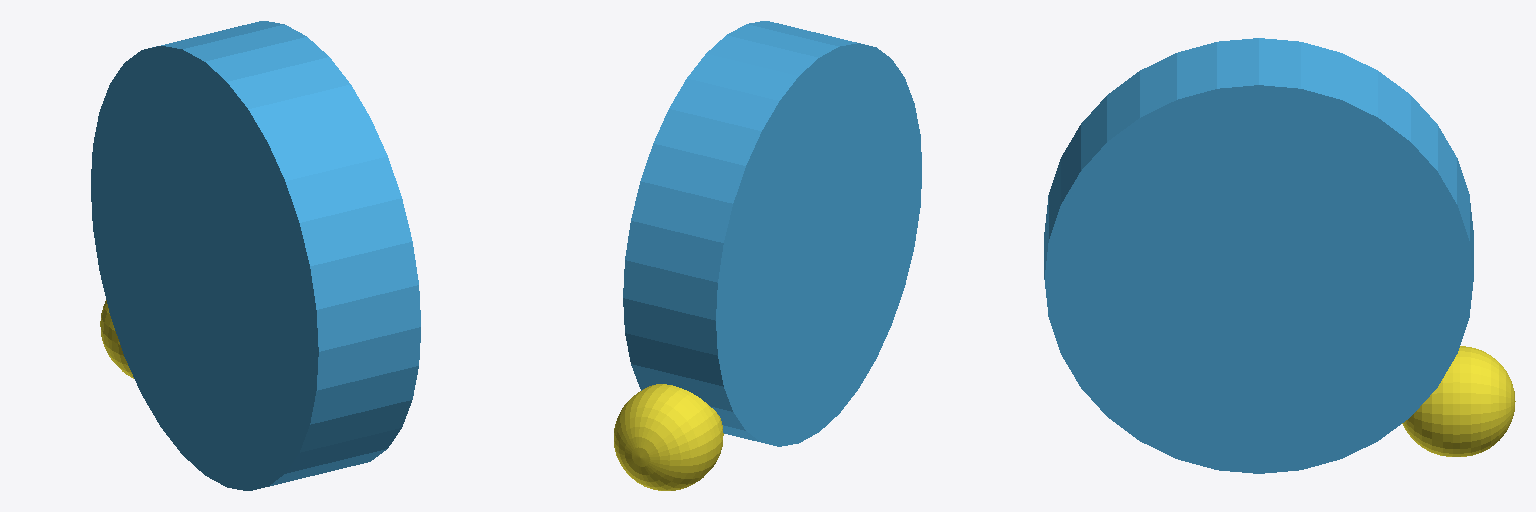
The robot description file, URDF, robot "DexterousHand":
<?xml version="1.0"?>
<robot name="DexterousHand">


    <link name="world"/>
    <joint name="world_to_palm" type="fixed">
        <parent link="world"/>
        <child link="palm"/>
        <origin xyz="0 0 0" rpy="0 0 0"/>
    </joint>
    <link name="palm">
        <inertial>
            <origin xyz="0 0 0.057" rpy="0 0 0"/>
            <mass value="0.30212892864"/>
            <inertia ixx="0.00049080844457568" ixy="0.0" ixz="0.0" iyy="0.00026746366246427523" iyz="0.0" izz="0.00026746366246427523"/>
        </inertial>
        <visual>
            <origin xyz="0 0 0.057" rpy="1.5708 0 1.5708"/>
            <geometry>
                <cylinder radius="0.057" length="0.0296"/>
            </geometry>
            <material name="default"/>
        </visual>
        <collision>
            <origin xyz="0 0 0.057" rpy="1.5708 0 1.5708"/>
            <geometry>
                <cylinder radius="0.057" length="0.0296"/>
            </geometry>
        </collision>
    </link>

    
    <joint name="thumb_joint1" type="revolute">
        <parent link="palm"/>
        <child link="thumb_base"/>
        <origin xyz="0.0029 0.0368 0.0157" rpy="-1.5708 -1.5708 0.0"/>
        <axis xyz="-1 0 0"/>
        <limit lower="-0.349" upper="2.094" effort="1.0" velocity="1.0"/>
    </joint>

    <link name="thumb_base"></link>

    <joint name="thumb_joint2" type="revolute">
        <parent link="thumb_base"/>
        <child link="thumb_proximal"/>
        <origin xyz="0.0 0.0 0.0" rpy="0.0 0.0 0.0"/>
        <axis xyz="0 0 1"/>
        <limit lower="-0.47" upper="2.443" effort="1.0" velocity="1.0"/>
    </joint>

    <link name="thumb_proximal">
        <inertial>
            <origin xyz="0 0 0.01565" rpy="0 0 0"/>
            <mass value="0.021538658803200002"/>
            <inertia ixx="2.9378910096388167e-06" ixy="0.0" ixz="0.0" 
            iyy="2.9378910096388167e-06" iyz="0.0" izz="2.358913912126464e-06"/>
        </inertial>
        <visual>
            <origin xyz="0 0 0.01565" rpy="0 0 0"/>
            <geometry>
                <cylinder radius="0.0148" length="0.0017000000000000001"/>
            </geometry>
            <material name="default"/>
        </visual>
        <visual>
            <origin xyz="0 0 0.0148" rpy="0 0 0"/>
            <geometry>
                <sphere radius="0.0148"/>
            </geometry>
            <material name="default"/>
        </visual>
        <visual>
            <origin xyz="0 0 0.0165" rpy="0 0 0"/>
            <geometry>
                <sphere radius="0.0148"/>
            </geometry>
            <material name="default"/>
        </visual>
        <collision>
            <origin xyz="0 0 0.01565" rpy="0 0 0"/>
            <geometry>
                <cylinder radius="0.0148" length="0.0017000000000000001"/>
            </geometry>
        </collision>
        <collision>
            <origin xyz="0 0 0.0148" rpy="0 0 0"/>
            <geometry>
                <sphere radius="0.0148"/>
            </geometry>
        </collision>
        <collision>
            <origin xyz="0 0 0.0165" rpy="0 0 0"/>
            <geometry>
                <sphere radius="0.0148"/>
            </geometry>
        </collision>
    </link>

    <joint name="thumb_joint3" type="revolute">
        <parent link="thumb_proximal"/>
        <child link="thumb_knuckle"/>
        <origin xyz="0.0 0.0 0.0" rpy="0.0 0.0 0.0"/>
        <axis xyz="1 0 0"/>
        <limit lower="0.0" upper="0.0" effort="1.0" velocity="1.0"/>
    </joint>

    <link name="thumb_knuckle"></link>

    <joint name="thumb_joint4" type="revolute">
        <parent link="thumb_knuckle"/>
        <child link="thumb_middle"/>
        <origin xyz="0 0 0" rpy="0 0 0"/> 
        <axis xyz="0 1 0"/>
        <limit lower="0.0" upper="0.0" effort="1.0" velocity="1.0"/>
    </joint>

    <link name="thumb_middle">
    </link>

    <joint name="thumb_joint5" type="revolute">
        <parent link="thumb_middle"/>
        <child link="thumb_distal"/>
        <origin xyz="0 0 0" rpy="0 0 0"/> 
        <axis xyz="0 1 0"/>
        <limit lower="0.0" upper="0.0" effort="1.0" velocity="1.0"/>
    </joint>

    <link name="thumb_distal">
    </link>

    
    <joint name="index_joint1" type="revolute">
        <parent link="palm"/>
        <child link="index_proximal"/>
        <origin xyz="0.0 0.0 0.0" rpy="0.0 0.0 0.0"/>
        <axis xyz="1 0 0"/>
        <limit lower="0.0" upper="0.0" effort="1.0" velocity="1.0"/>
    </joint>

    <link name="index_proximal">
    </link>

    <joint name="index_joint2" type="revolute">
        <parent link="index_proximal"/>
        <child link="index_dummy"/>
        <origin xyz="0.0 0.0 0.0" rpy="0.0 0.0 0.0"/>
        <axis xyz="0 1 0"/>
        <limit lower="0.0" upper="0.0" effort="1.0" velocity="1.0"/>
    </joint>

    <link name="index_dummy"></link>

    <joint name="index_joint3" type="revolute">
        <parent link="index_dummy"/>
        <child link="index_middle"/>
        <origin xyz="0 0 0" rpy="0 0 0"/>
        <axis xyz="0 1 0"/>
        <limit lower="0.0" upper="0.0" effort="1.0" velocity="1.0"/>
    </joint>

    <link name="index_middle">
    </link>

    <joint name="index_joint4" type="revolute">
        <parent link="index_middle"/>
        <child link="index_distal"/>
        <origin xyz="0 0 0" rpy="0 0 0"/> 
        <axis xyz="0 1 0"/>
        <limit lower="0.0" upper="0.0" effort="1.0" velocity="1.0"/>
    </joint>

    <link name="index_distal">
    </link>

    
    <joint name="middle_joint1" type="revolute">
        <parent link="palm"/>
        <child link="middle_proximal"/>
        <origin xyz="0.0 0.0 0.0" rpy="0.0 0.0 0.0"/>
        <axis xyz="1 0 0"/>
        <limit lower="0.0" upper="0.0" effort="1.0" velocity="1.0"/>
    </joint>

    <link name="middle_proximal">
    </link>

    <joint name="middle_joint2" type="revolute">
        <parent link="middle_proximal"/>
        <child link="middle_dummy"/>
        <origin xyz="0.0 0.0 0.0" rpy="0.0 0.0 0.0"/>
        <axis xyz="0 1 0"/>
        <limit lower="0.0" upper="0.0" effort="1.0" velocity="1.0"/>
    </joint>

    <link name="middle_dummy"></link>

    <joint name="middle_joint3" type="revolute">
        <parent link="middle_dummy"/>
        <child link="middle_middle"/>
        <origin xyz="0 0 0" rpy="0 0 0"/>
        <axis xyz="0 1 0"/>
        <limit lower="0.0" upper="0.0" effort="1.0" velocity="1.0"/>
    </joint>

    <link name="middle_middle">
    </link>

    <joint name="middle_joint4" type="revolute">
        <parent link="middle_middle"/>
        <child link="middle_distal"/>
        <origin xyz="0 0 0" rpy="0 0 0"/> 
        <axis xyz="0 1 0"/>
        <limit lower="0.0" upper="0.0" effort="1.0" velocity="1.0"/>
    </joint>

    <link name="middle_distal">
    </link>

    
    <joint name="ring_joint1" type="revolute">
        <parent link="palm"/>
        <child link="ring_proximal"/>
        <origin xyz="0.0 0.0 0.0" rpy="0.0 0.0 0.0"/>
        <axis xyz="1 0 0"/>
        <limit lower="0.0" upper="0.0" effort="1.0" velocity="1.0"/>
    </joint>

    <link name="ring_proximal">
    </link>

    <joint name="ring_joint2" type="revolute">
        <parent link="ring_proximal"/>
        <child link="ring_dummy"/>
        <origin xyz="0.0 0.0 0.0" rpy="0.0 0.0 0.0"/>
        <axis xyz="0 1 0"/>
        <limit lower="0.0" upper="0.0" effort="1.0" velocity="1.0"/>
    </joint>

    <link name="ring_dummy"></link>

    <joint name="ring_joint3" type="revolute">
        <parent link="ring_dummy"/>
        <child link="ring_middle"/>
        <origin xyz="0 0 0" rpy="0 0 0"/>
        <axis xyz="0 1 0"/>
        <limit lower="0.0" upper="0.0" effort="1.0" velocity="1.0"/>
    </joint>

    <link name="ring_middle">
    </link>

    <joint name="ring_joint4" type="revolute">
        <parent link="ring_middle"/>
        <child link="ring_distal"/>
        <origin xyz="0 0 0" rpy="0 0 0"/> 
        <axis xyz="0 1 0"/>
        <limit lower="0.0" upper="0.0" effort="1.0" velocity="1.0"/>
    </joint>

    <link name="ring_distal">
    </link>

    
    <joint name="little_joint0" type="revolute">
        <parent link="palm"/>
        <child link="little_base"/>
        <origin xyz="0.0 0.0 0.0" rpy="0.0 0.0 0.0"/>
        <axis xyz="0 1 0"/>
        <limit lower="0.0" upper="0.0" effort="1.0" velocity="1.0"/>
    </joint>

    <link name="little_base"></link>

    <joint name="little_joint1" type="revolute">
        <parent link="little_base"/>
        <child link="little_proximal"/>
        <origin xyz="0.0 0.0 0.0" rpy="-0.0 -0.0 -0.0"/>
        <axis xyz="1 0 0"/>
        <limit lower="0.0" upper="0.0" effort="1.0" velocity="1.0"/>
    </joint>

    <link name="little_proximal">
    </link>

    <joint name="little_joint2" type="revolute">
        <parent link="little_proximal"/>
        <child link="little_dummy"/>
        <origin xyz="0.0 0.0 0.0" rpy="0.0 0.0 0.0"/>
        <axis xyz="0 1 0"/>
        <limit lower="0.0" upper="0.0" effort="1.0" velocity="1.0"/>
    </joint>

    <link name="little_dummy"></link>

    <joint name="little_joint3" type="revolute">
        <parent link="little_dummy"/>
        <child link="little_middle"/>
        <origin xyz="0 0 0" rpy="0 0 0"/>
        <axis xyz="0 1 0"/>
        <limit lower="0.0" upper="0.0" effort="1.0" velocity="1.0"/>
    </joint>

    <link name="little_middle">
    </link>

    <joint name="little_joint4" type="revolute">
        <parent link="little_middle"/>
        <child link="little_distal"/>
        <origin xyz="0 0 0" rpy="0 0 0"/>
        <axis xyz="0 1 0"/>
        <limit lower="0.0" upper="0.0" effort="1.0" velocity="1.0"/>
    </joint>

    <link name="little_distal">
    </link>

</robot>

--- Facts derived from the render (not from the file) ---
3 views of the same robot in one strip: view 1: azimuth 30°, elevation 25°; view 2: azimuth 150°, elevation 25°; view 3: azimuth 270°, elevation 25° (orthographic).
Robot: DexterousHand — 24 links, 23 joints (22 revolute, 1 fixed); root link world; default pose: all joints at 0.
Visible links, largest first — view 1: palm, thumb_proximal; view 2: palm, thumb_proximal; view 3: palm, thumb_proximal.
Boxes of the visible links, left/top/right/bottom form: palm: left=91, top=21, right=420, bottom=490; thumb_proximal: left=100, top=300, right=133, bottom=378; palm: left=623, top=21, right=921, bottom=446; thumb_proximal: left=614, top=384, right=723, bottom=490; palm: left=1044, top=38, right=1473, bottom=473; thumb_proximal: left=1402, top=346, right=1515, bottom=456.
Bounding box of the posed robot: 0.0325 × 0.1251 × 0.114 m (x, y, z).
Geometry: primitives only (box / cylinder / sphere), no mesh files.
